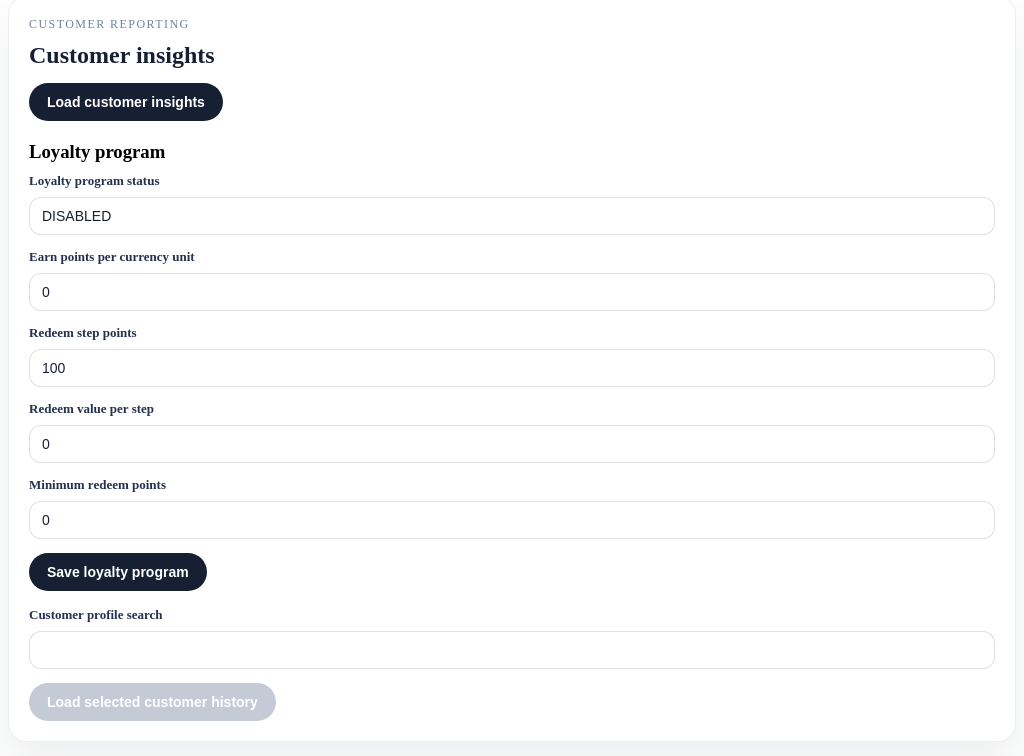
Test: owner customer insights section › loads customer profiles alongside reporting and selected history
The width and height of the screenshot is (1024, 756).
Click the button "Load customer insights". click: (126, 102)
box: [29,83,223,121]
(page scrolled)
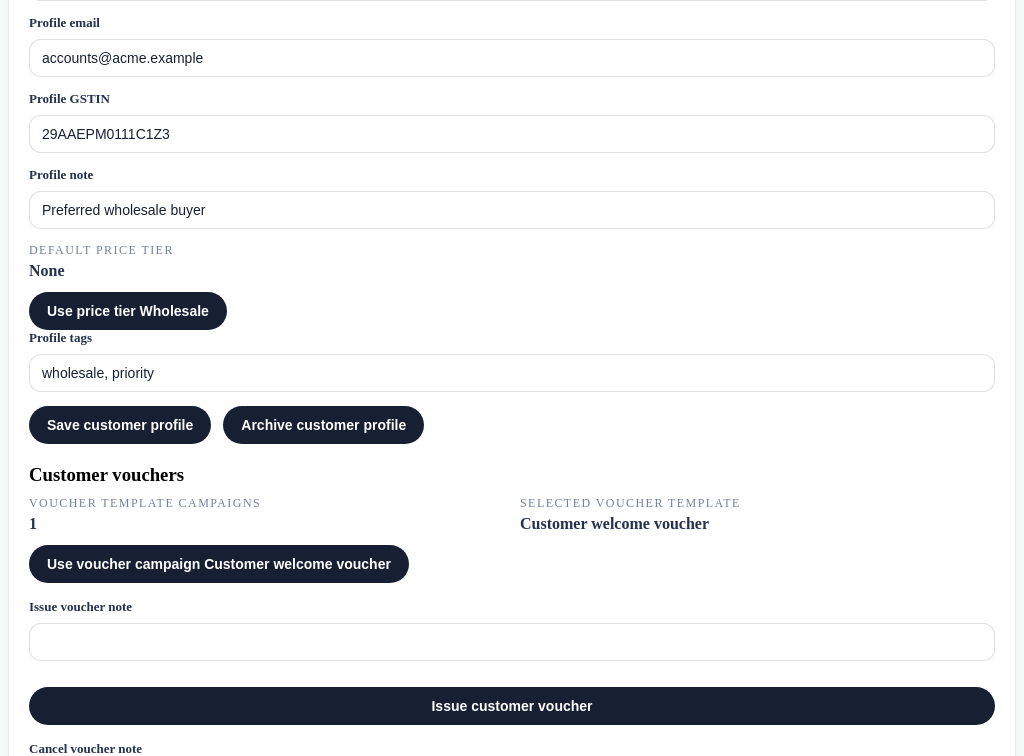
Expected: the field showing "accounts@acme.example" is shown, [29,39,995,77]
Expected: the field showing "wholesale, priority" is shown, [29,354,995,392]
